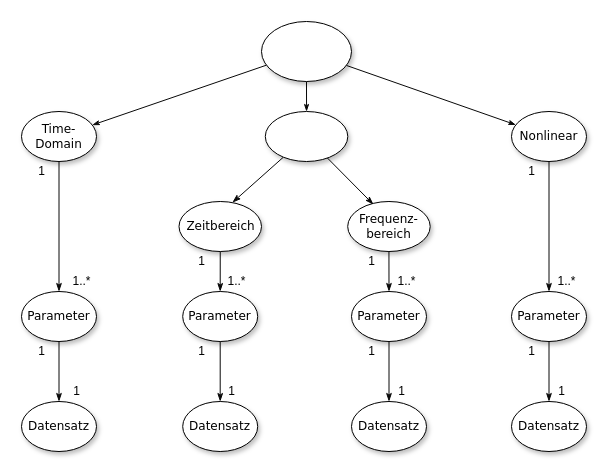
This 610x476 diagram has some shape labels left out. The shapes that lost their labels are listed below. From the top down, each one's centre as x and y in pixels, then its label:
At (307,52): "Datenobjekt".
At (307,137): "Frequency-Domain".
